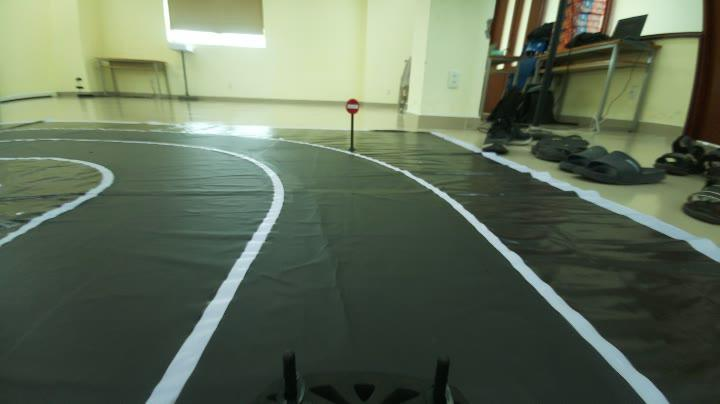no_entry: (339, 95, 365, 118)
